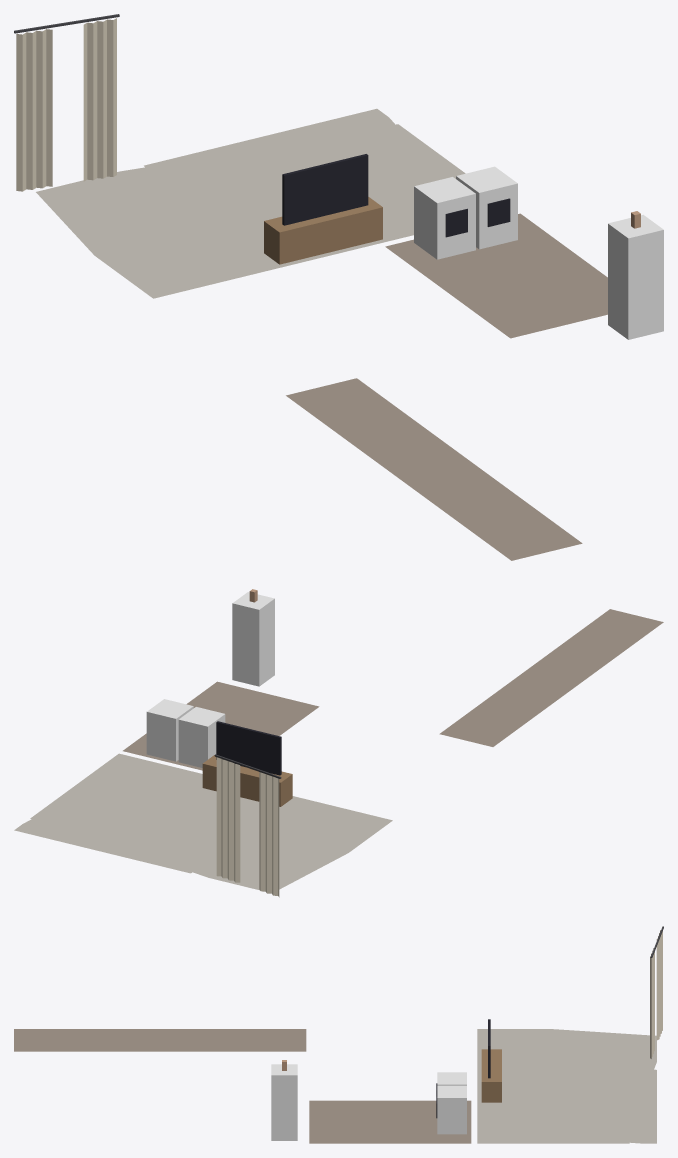
The model's file is fine-s0.glb.
The picture shows the model from 3 angles, top to bottom: view 1: azimuth 30°, elevation 25°; view 2: azimuth 150°, elevation 25°; view 3: azimuth 270°, elevation 25°; orthographic projection. The views are drawn at different scales.
Visible parts, largest first — view 1: soft-s0, tv-console.000, water-heater.000, washer.000, washer.001; view 2: soft-s0, tv-console.000, water-heater.000, washer.000, washer.001; view 3: soft-s0, water-heater.000, washer.001, tv-console.000, washer.000.
Part boxes in pixels (x1,y1,x2,y2): soft-s0: (14,14,607,560); tv-console.000: (264,154,382,264); water-heater.000: (608,211,663,339); washer.000: (414,177,475,259); washer.001: (456,166,517,249); soft-s0: (14,609,663,897); tv-console.000: (202,721,292,806); water-heater.000: (232,589,274,686); washer.000: (178,707,225,767); washer.001: (146,699,193,761); soft-s0: (14,926,663,1143); water-heater.000: (271,1060,297,1140); washer.001: (436,1085,466,1134); tv-console.000: (481,1019,501,1102); washer.000: (436,1072,466,1096).
Size of the model in its own units: 5.61 by 2.4 by 13.46.
